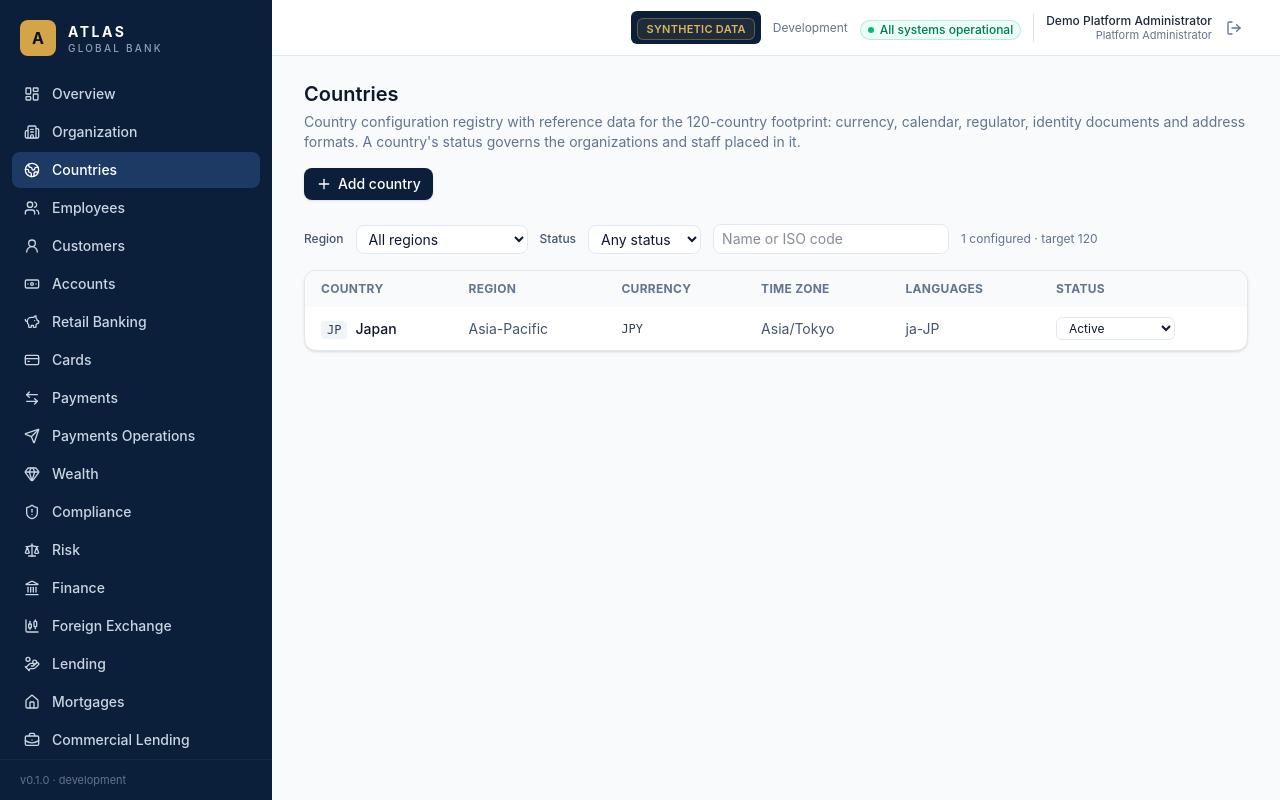
it: Countries page › lets an administrator add a country with an idempotency key
Click the button "Add country".
click(368, 184)  # box [304, 168, 433, 200]
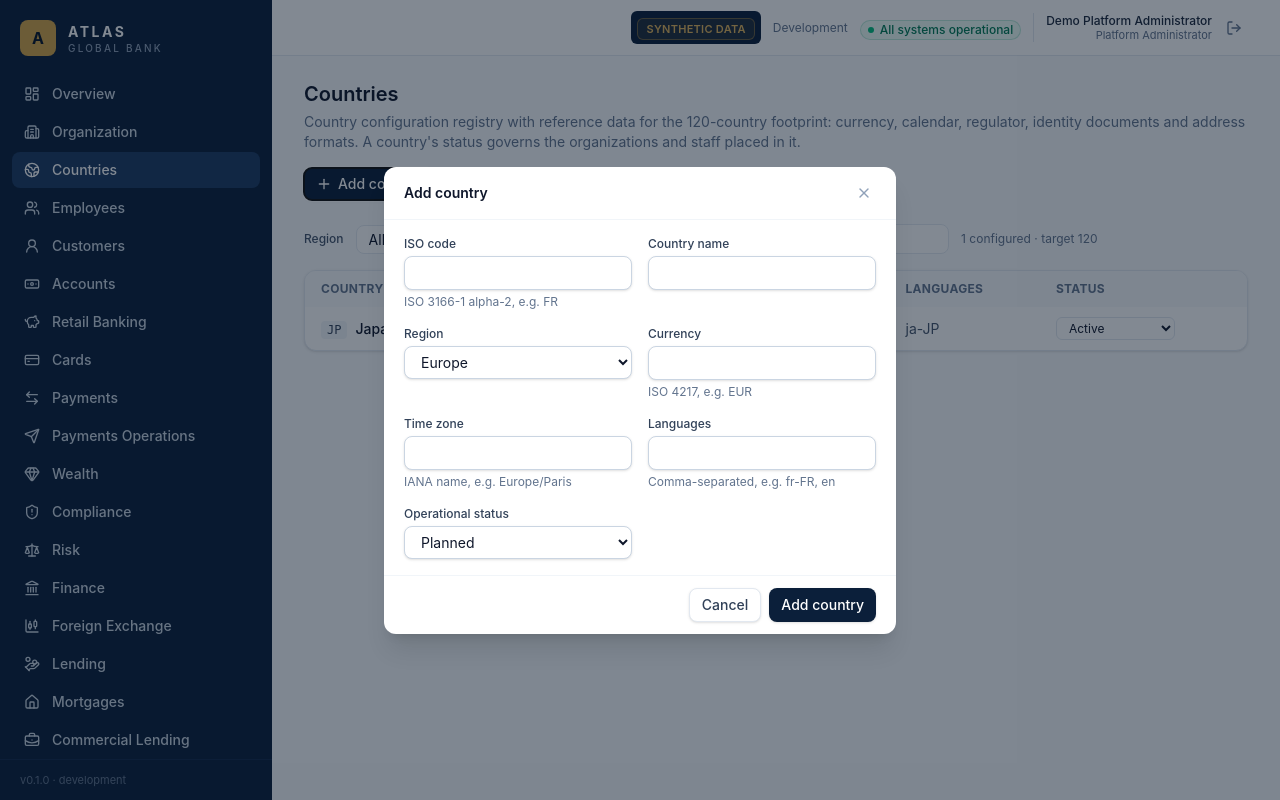
Type "de" into the field labelled "ISO code".
click(518, 272); type("de")  # box [404, 256, 632, 290]
Type "Germany" into the field labelled "Country name".
click(762, 272); type("Germany")  # box [648, 256, 876, 290]
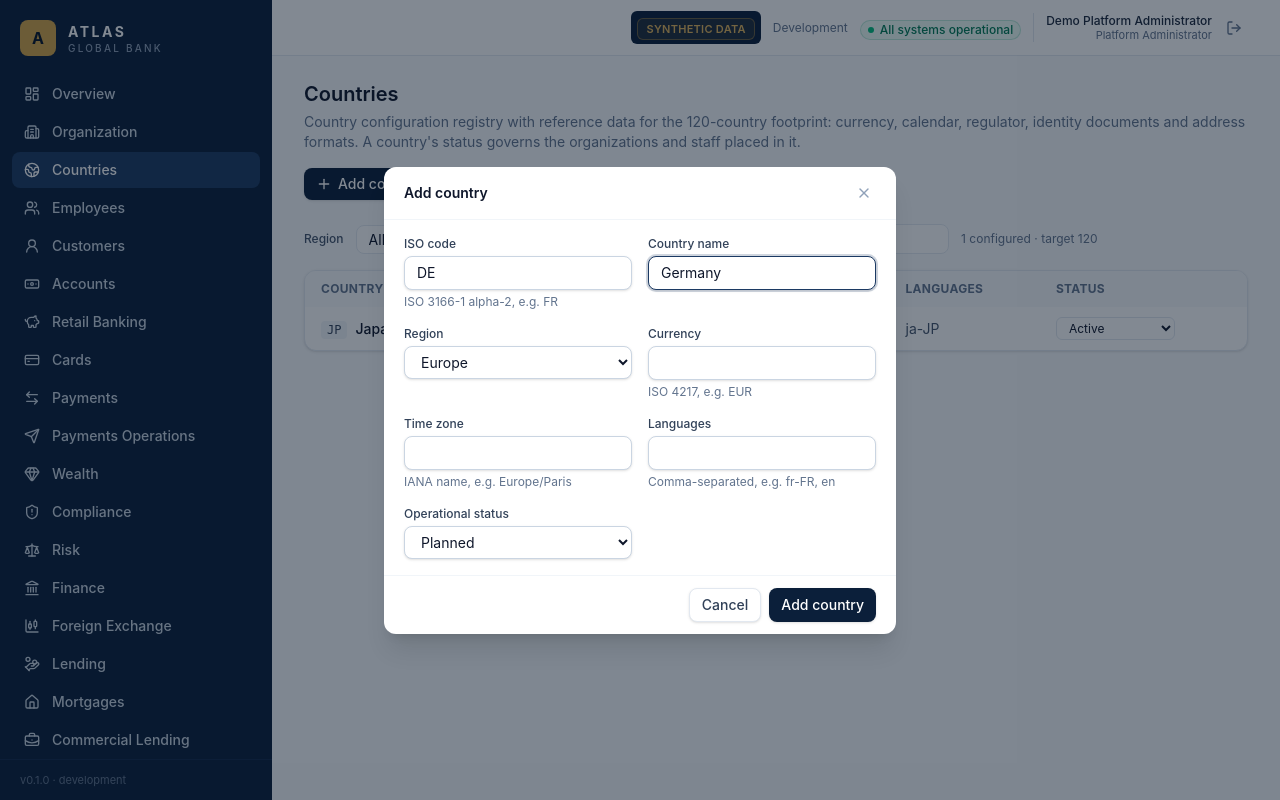
Type "eur" into the field labelled "Currency".
click(762, 362); type("eur")  # box [648, 346, 876, 380]
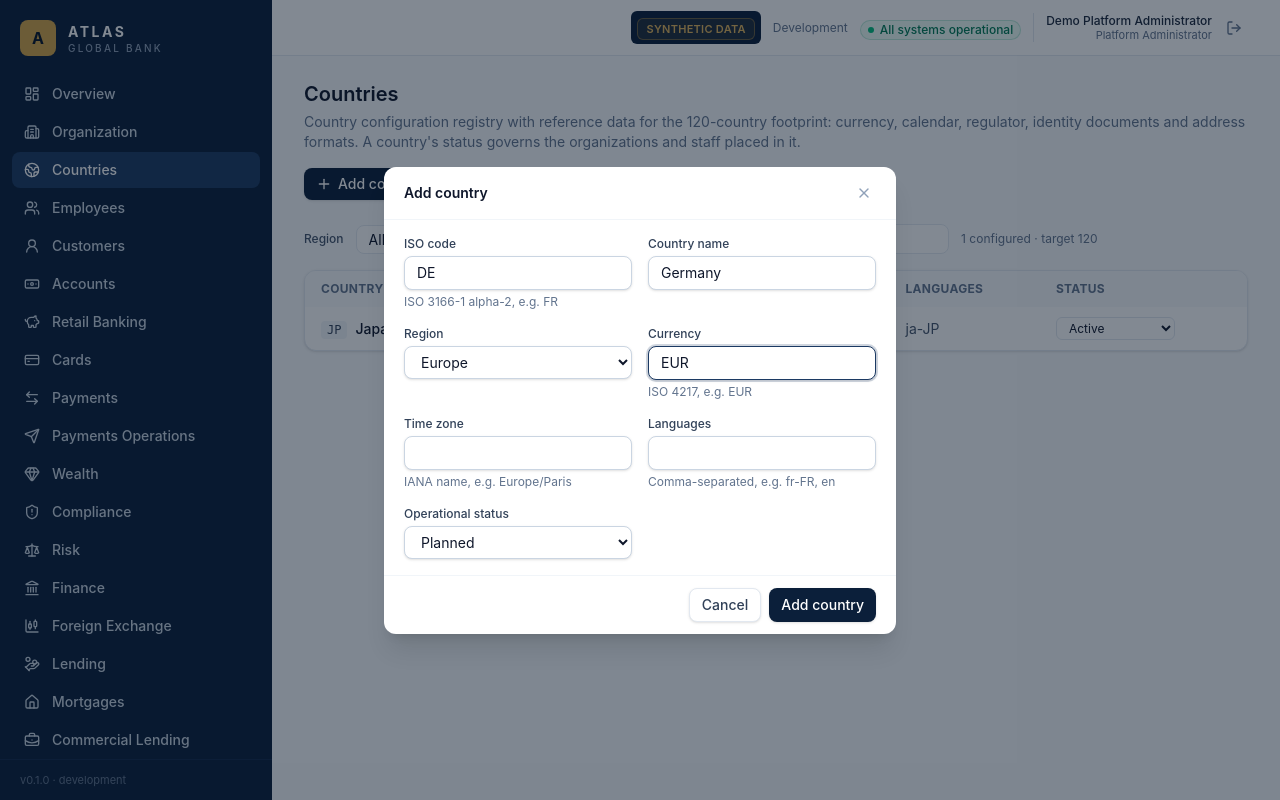
Type "Europe/Berlin" into the field labelled "Time zone".
click(518, 452); type("Europe/Berlin")  # box [404, 436, 632, 470]
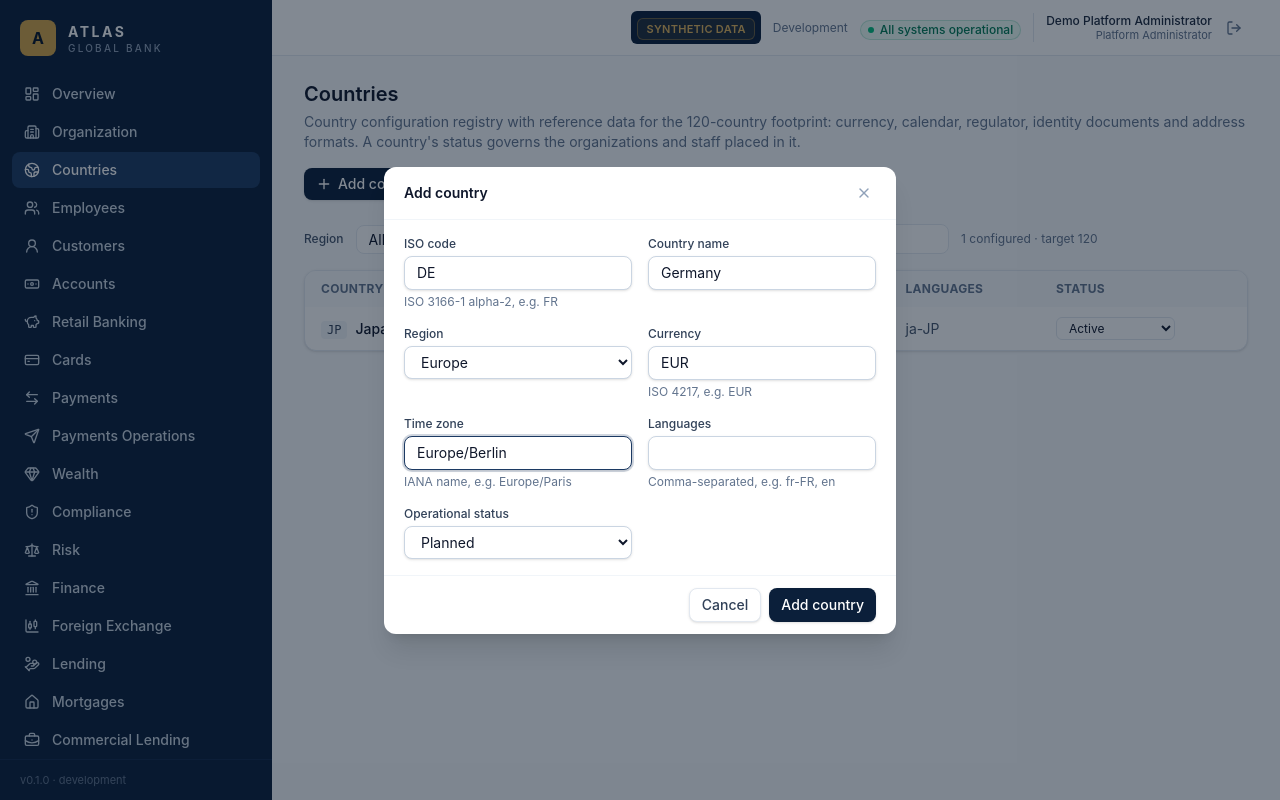
Type "de-DE, en" into the field labelled "Languages".
click(762, 452); type("de-DE, en")  # box [648, 436, 876, 470]
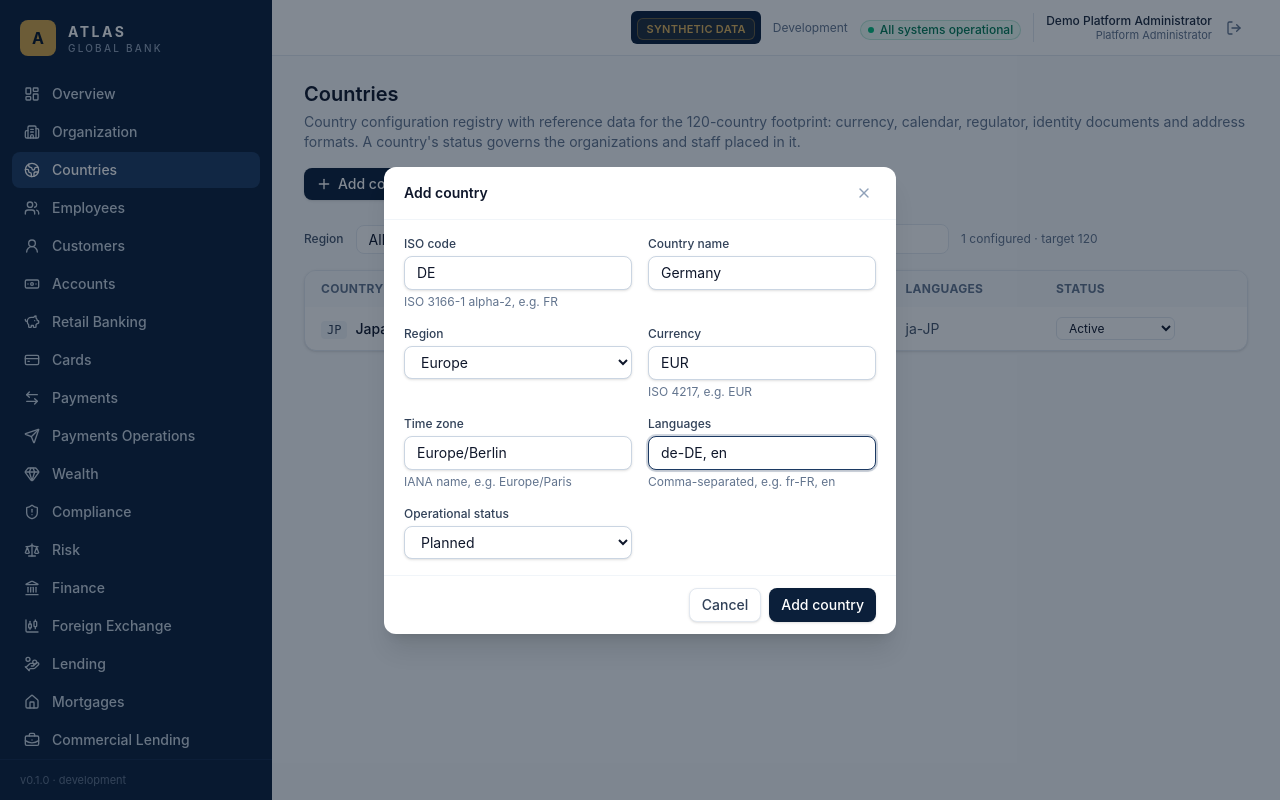
Click the button "Add country".
click(823, 604)  # box [769, 588, 876, 622]
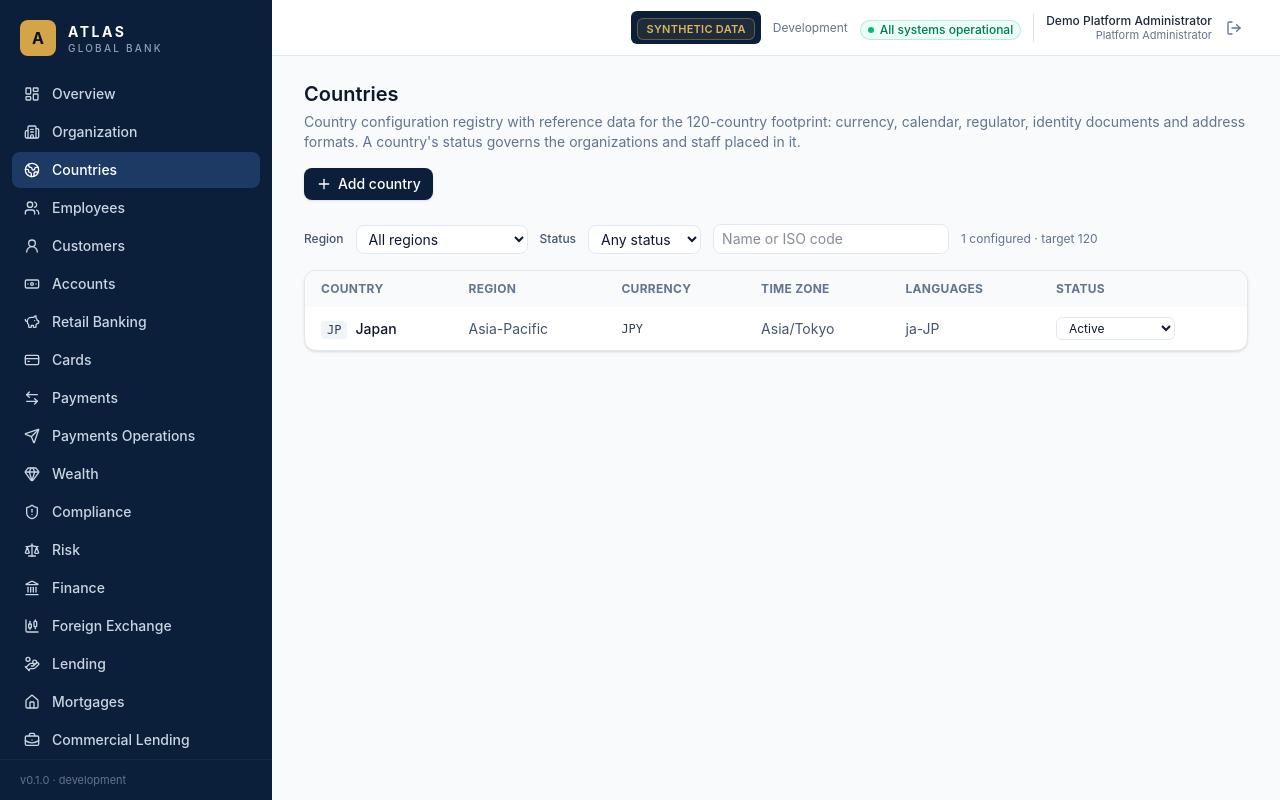
Expected: the button "Japan" is shown, [356, 318, 397, 338]
Now the dialog is gone
